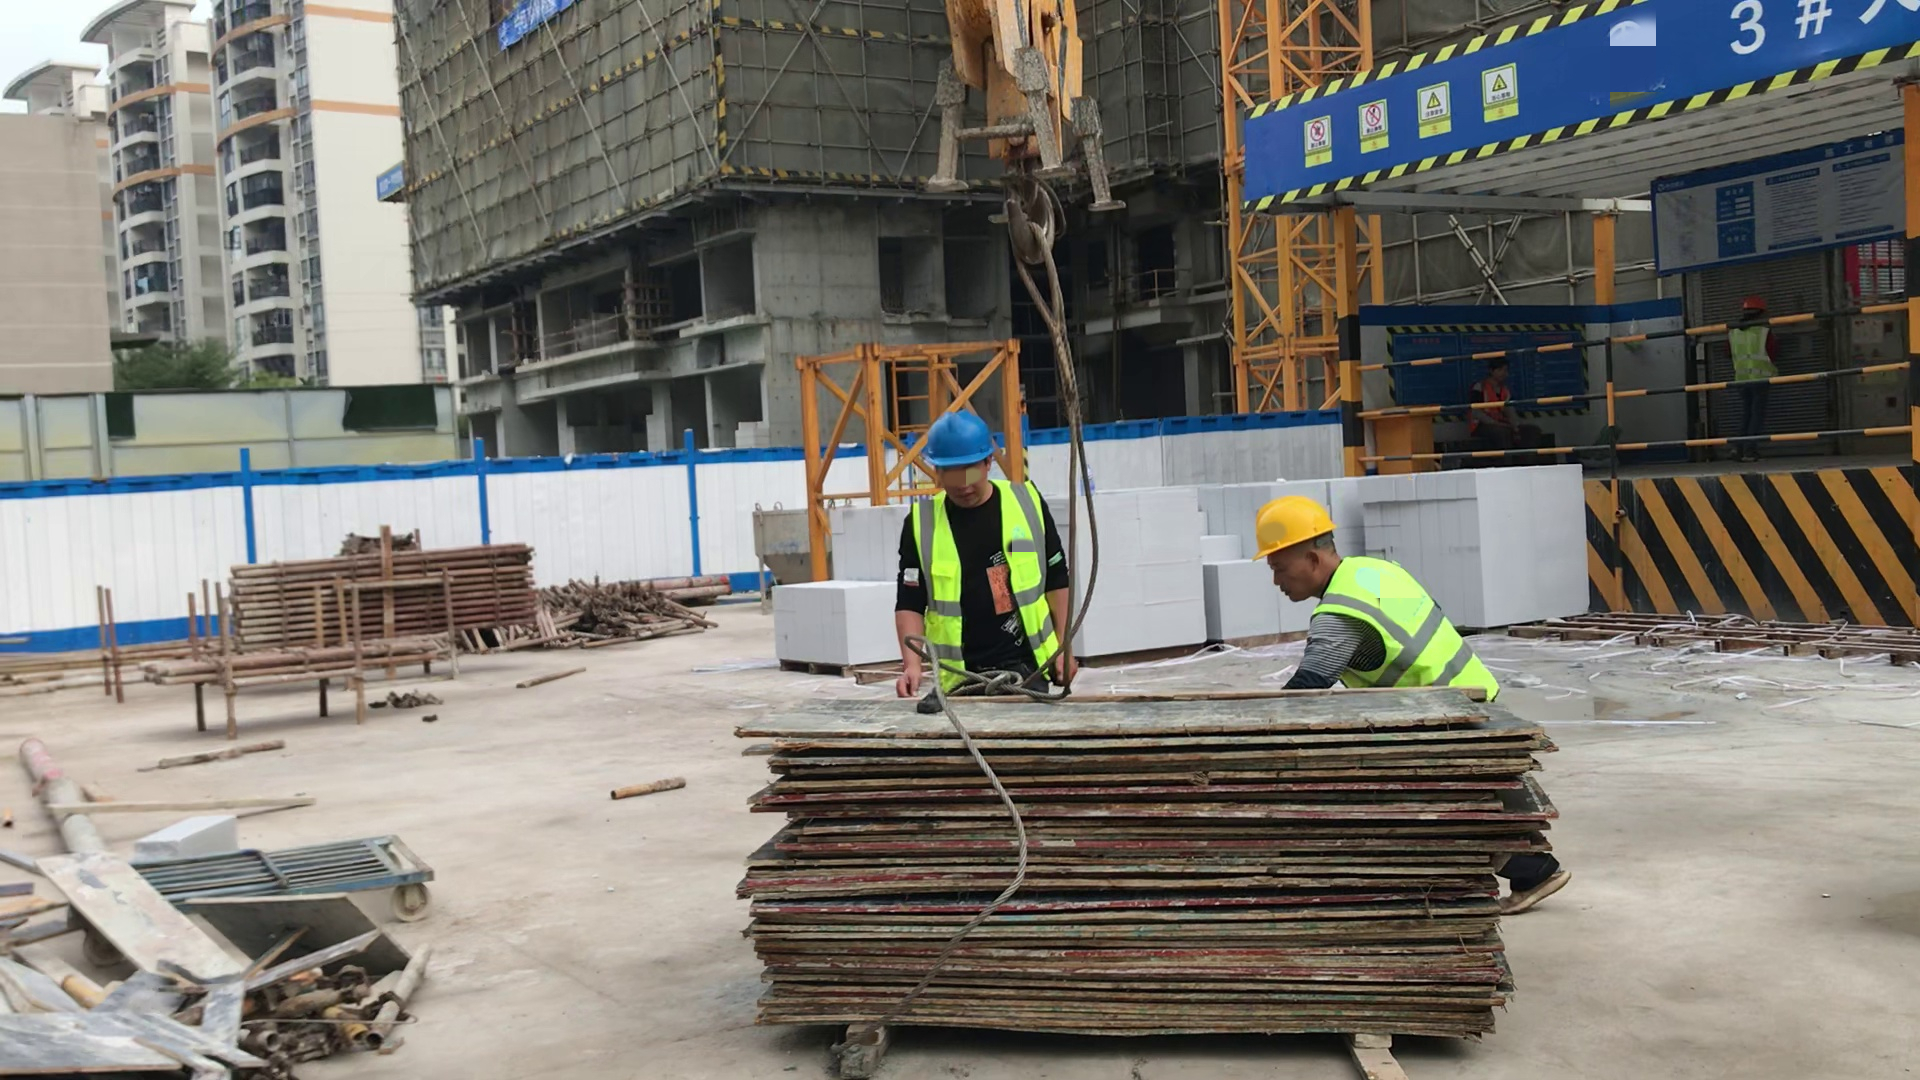board: (739, 682, 1548, 1068)
brick: (1340, 472, 1593, 621), (1060, 492, 1262, 652), (760, 576, 911, 666)
ebox: (1364, 407, 1432, 472)
handcart: (104, 830, 442, 920)
helmet: (920, 411, 1003, 470), (1247, 496, 1334, 549), (1740, 294, 1773, 321)
hook: (923, 1, 1112, 316)
hopper: (734, 498, 847, 591)
person: (1255, 486, 1514, 705), (896, 408, 1078, 704), (1719, 295, 1779, 460), (1467, 353, 1547, 459)
scaffold: (226, 549, 560, 658)
slogan: (1299, 48, 1522, 173), (490, 1, 582, 58), (369, 154, 408, 207)
vest: (903, 499, 1066, 670), (1332, 555, 1497, 696), (1723, 327, 1778, 387), (1473, 378, 1512, 430)
